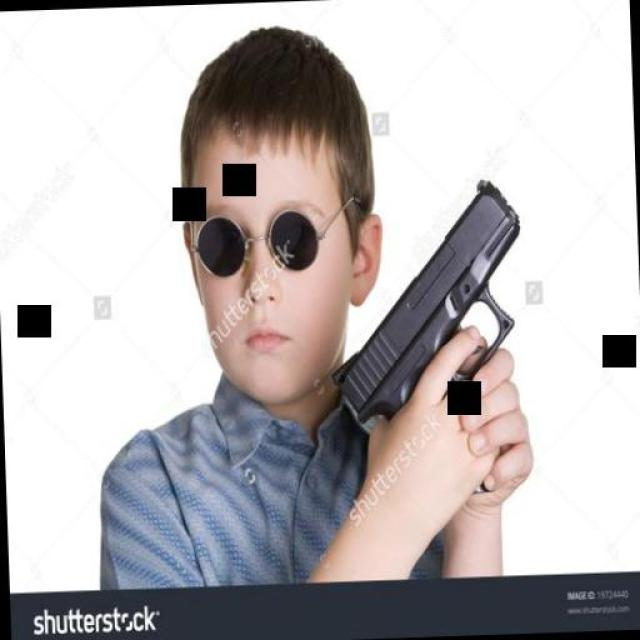gun: (319, 172, 531, 500)
